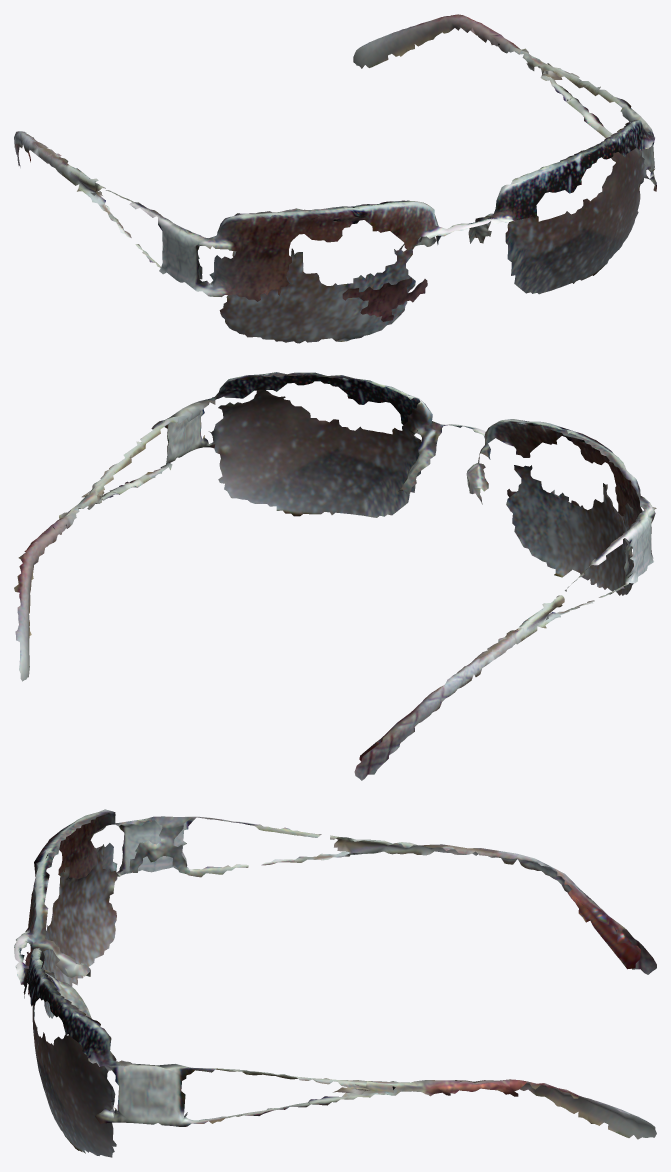
File: scan_align.obj
The picture shows the model from 3 angles, top to bottom: view 1: azimuth 30°, elevation 25°; view 2: azimuth 150°, elevation 25°; view 3: azimuth 270°, elevation 25°; orthographic projection. The views are drawn at different scales.
Bounding box in the file's own units: 0.1472 × 0.0415 × 0.1539.
Materials: 1 (1 with a texture image).
